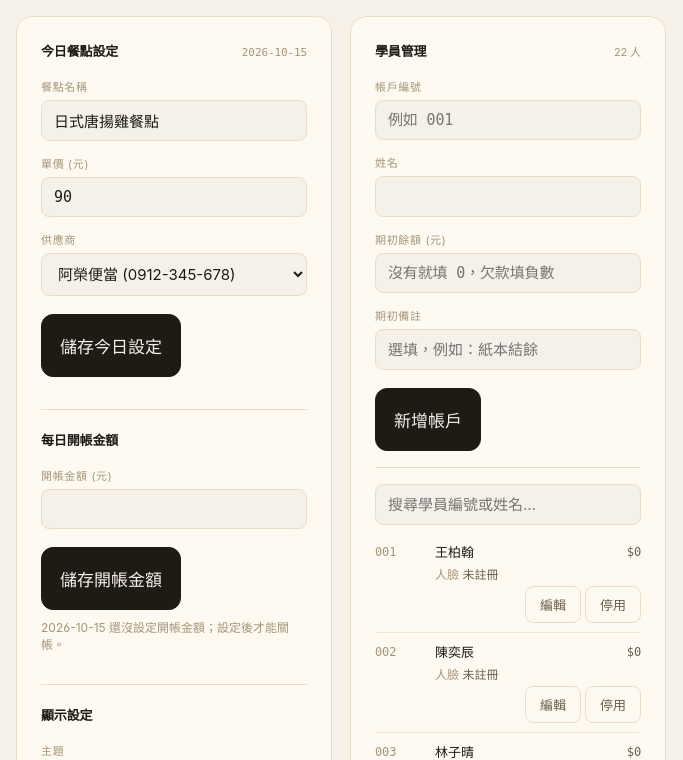
Test: AdminScreen Opening Cash Validation and Confirmation › rejects values greater than 20,000 and displays error without opening dialog
The width and height of the screenshot is (683, 760).
Type "25000" into the field named "開帳金額" at (174,509), box [41, 489, 307, 529]
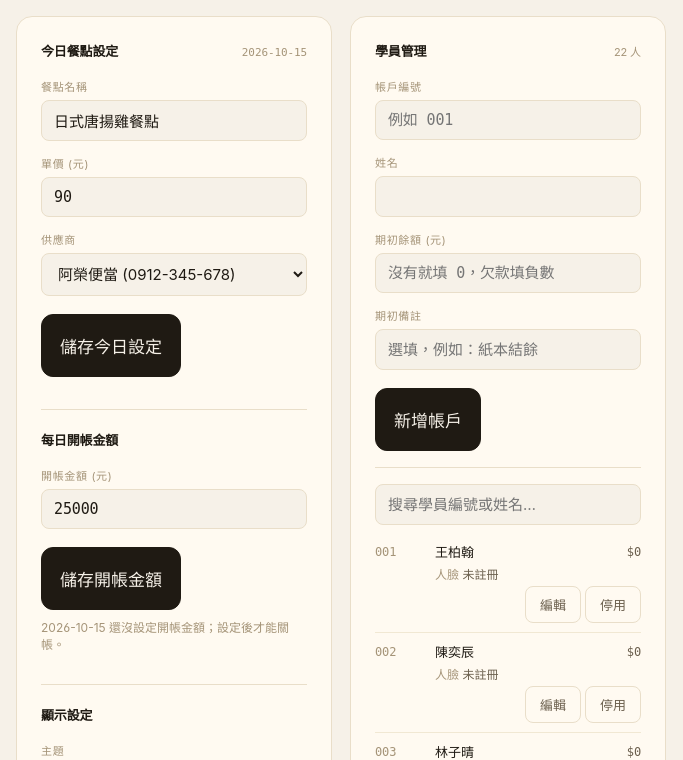
Click the button "儲存開帳金額" at (111,578), box [41, 547, 181, 610]
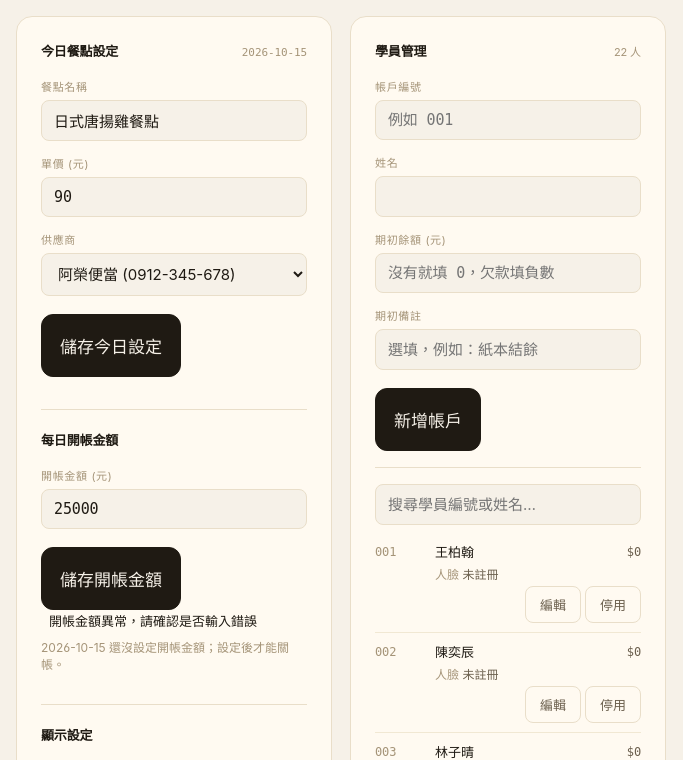
Now the message reads "開帳金額異常，請確認是否輸入錯誤", box [49, 613, 257, 629]
